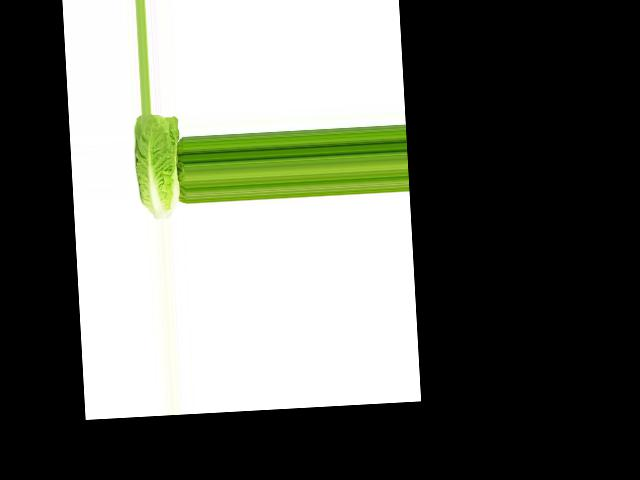lettuce: (125, 112, 181, 220)
